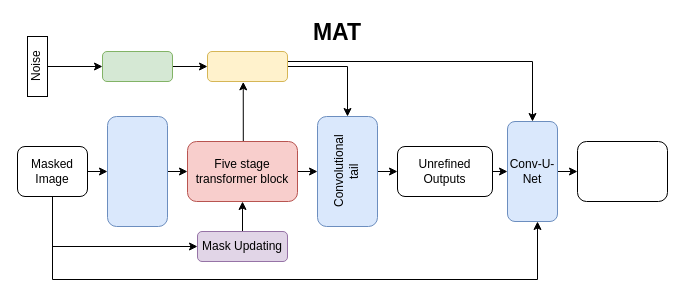
The diagram is 685 pixels wide and 305 high, and some of its shapes have lost their labels. Each missing label, with the centre of its shape:
"Convolutional head" goes at (137,171).
"Final Outputs" goes at (622,171).
"Mapping" goes at (137,66).
"SMM" goes at (247,66).
